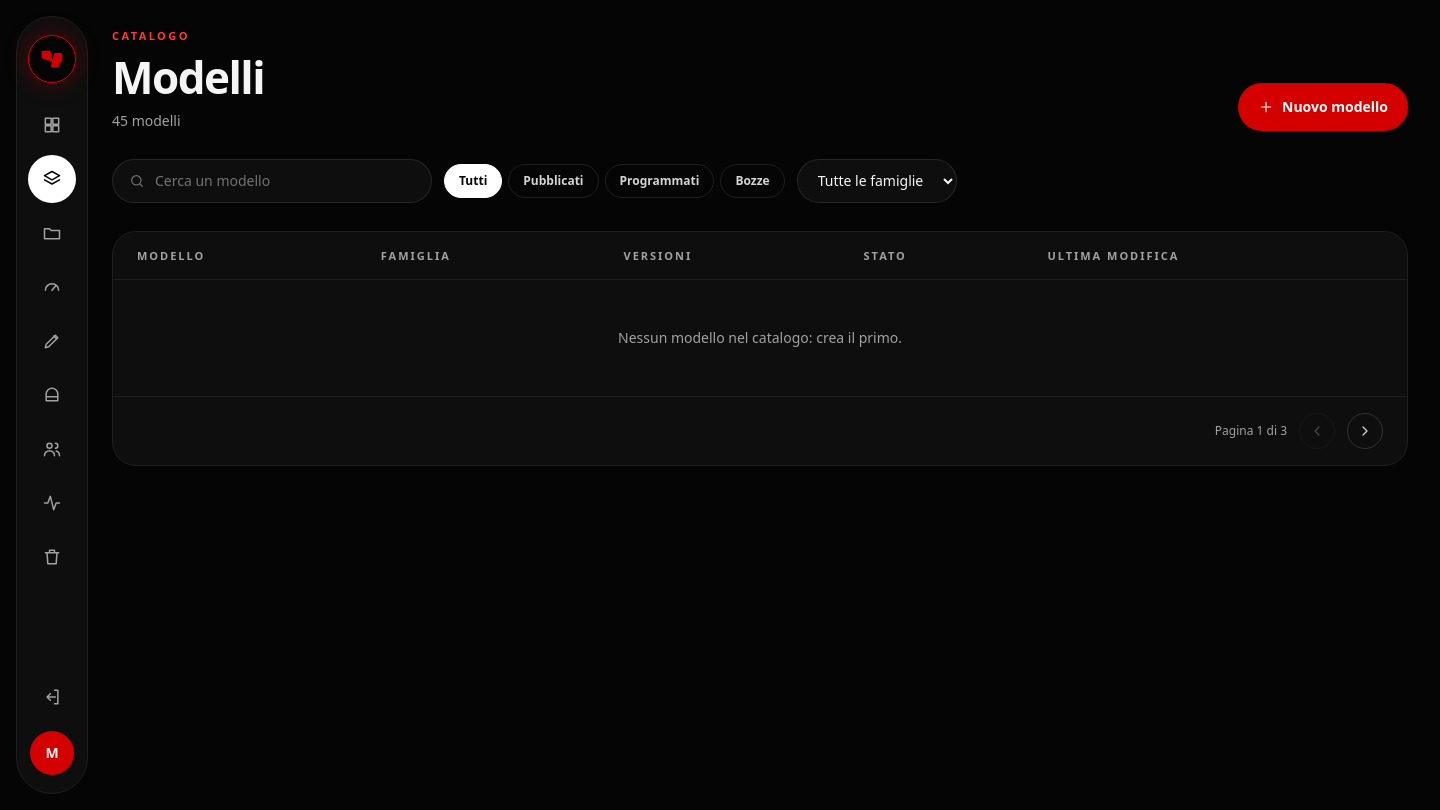
it: passa alla pagina successiva
This screenshot has width=1440, height=810.
expect the text "Pagina 1 di 3" is shown: met, box [1215,423,1287,439]
expect the button named "Pagina precedente" is disabled: met, box [1299,413,1335,449]
Click the button named "Pagina successiva". click: (1365, 431)
box: [1347,413,1383,449]
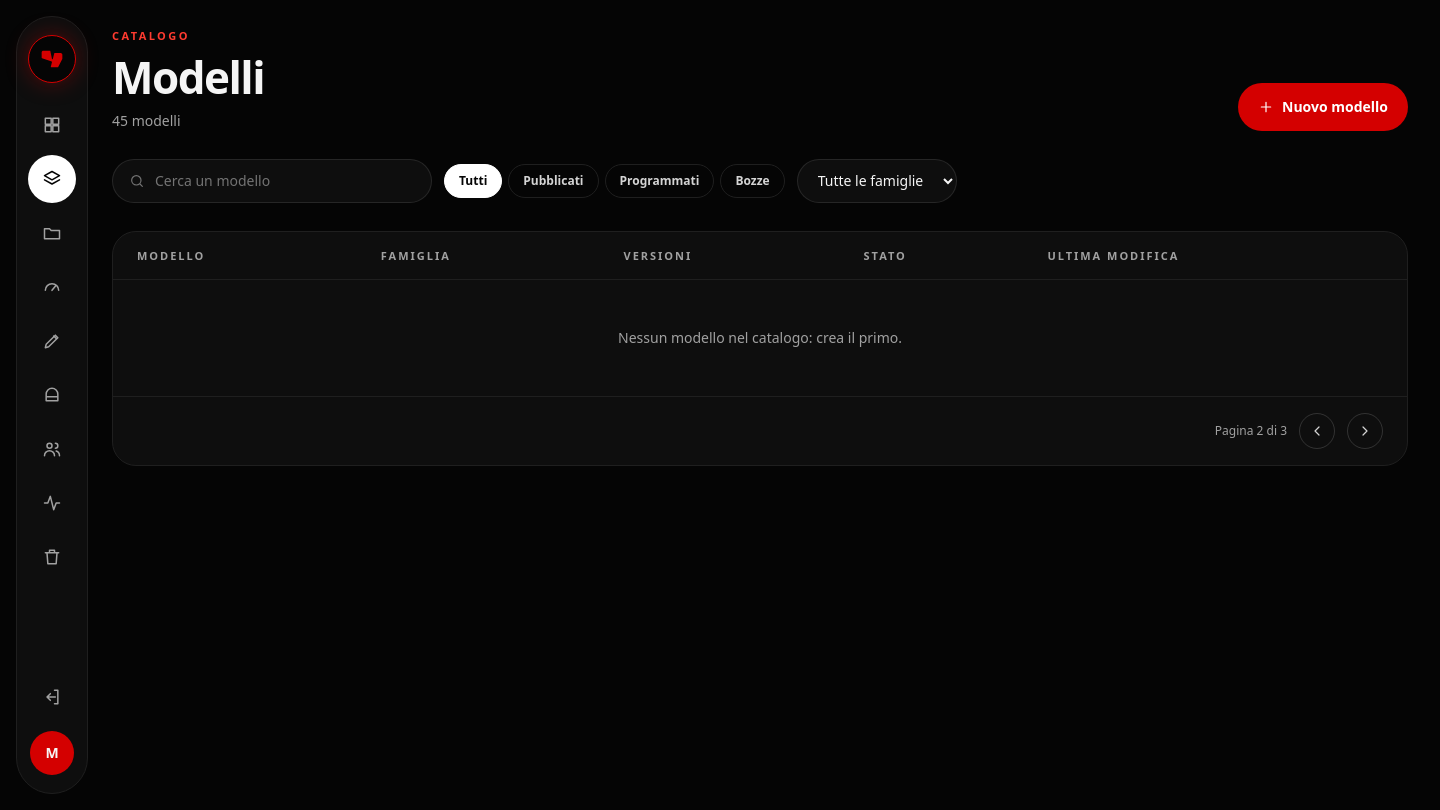
expect the text "Pagina 2 di 3" is shown: met, box [1215,423,1287,439]
